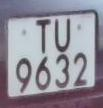2: (71, 48, 91, 91)
3: (52, 52, 74, 92)
6: (33, 53, 54, 95)
9: (14, 54, 36, 96)
T: (32, 17, 55, 58)
U: (53, 16, 74, 55)
